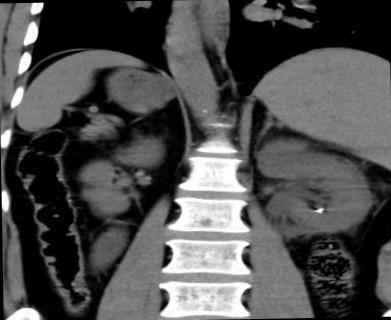Tas_Var: (315, 208, 323, 215)
